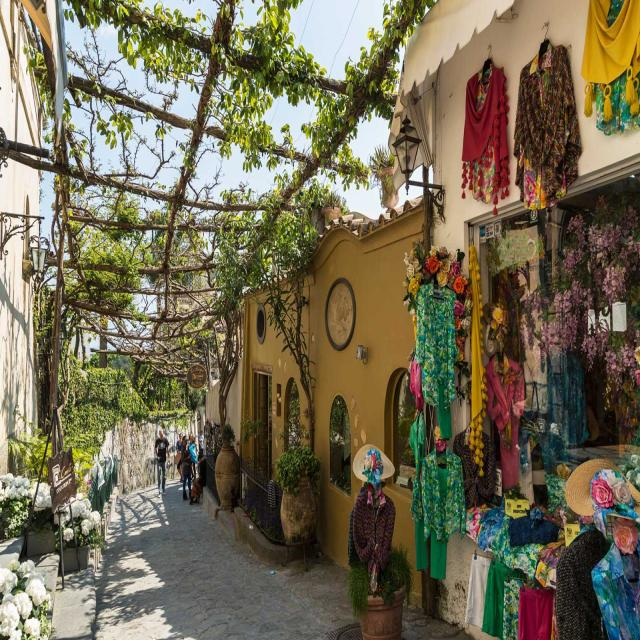body: (481, 297, 529, 515), (348, 444, 397, 602), (153, 428, 170, 498), (188, 450, 208, 504), (180, 435, 194, 501), (187, 434, 197, 483), (188, 434, 198, 482), (175, 432, 184, 484), (198, 428, 205, 456)
